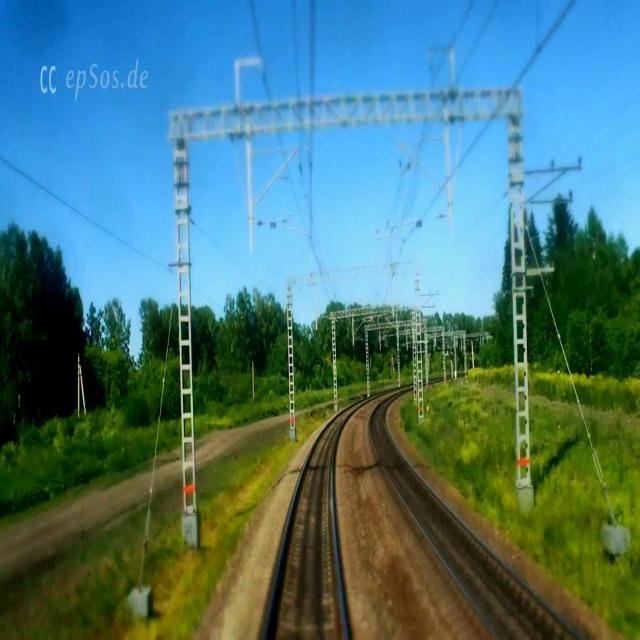rail-track: (372, 404, 575, 639), (269, 414, 345, 639)
